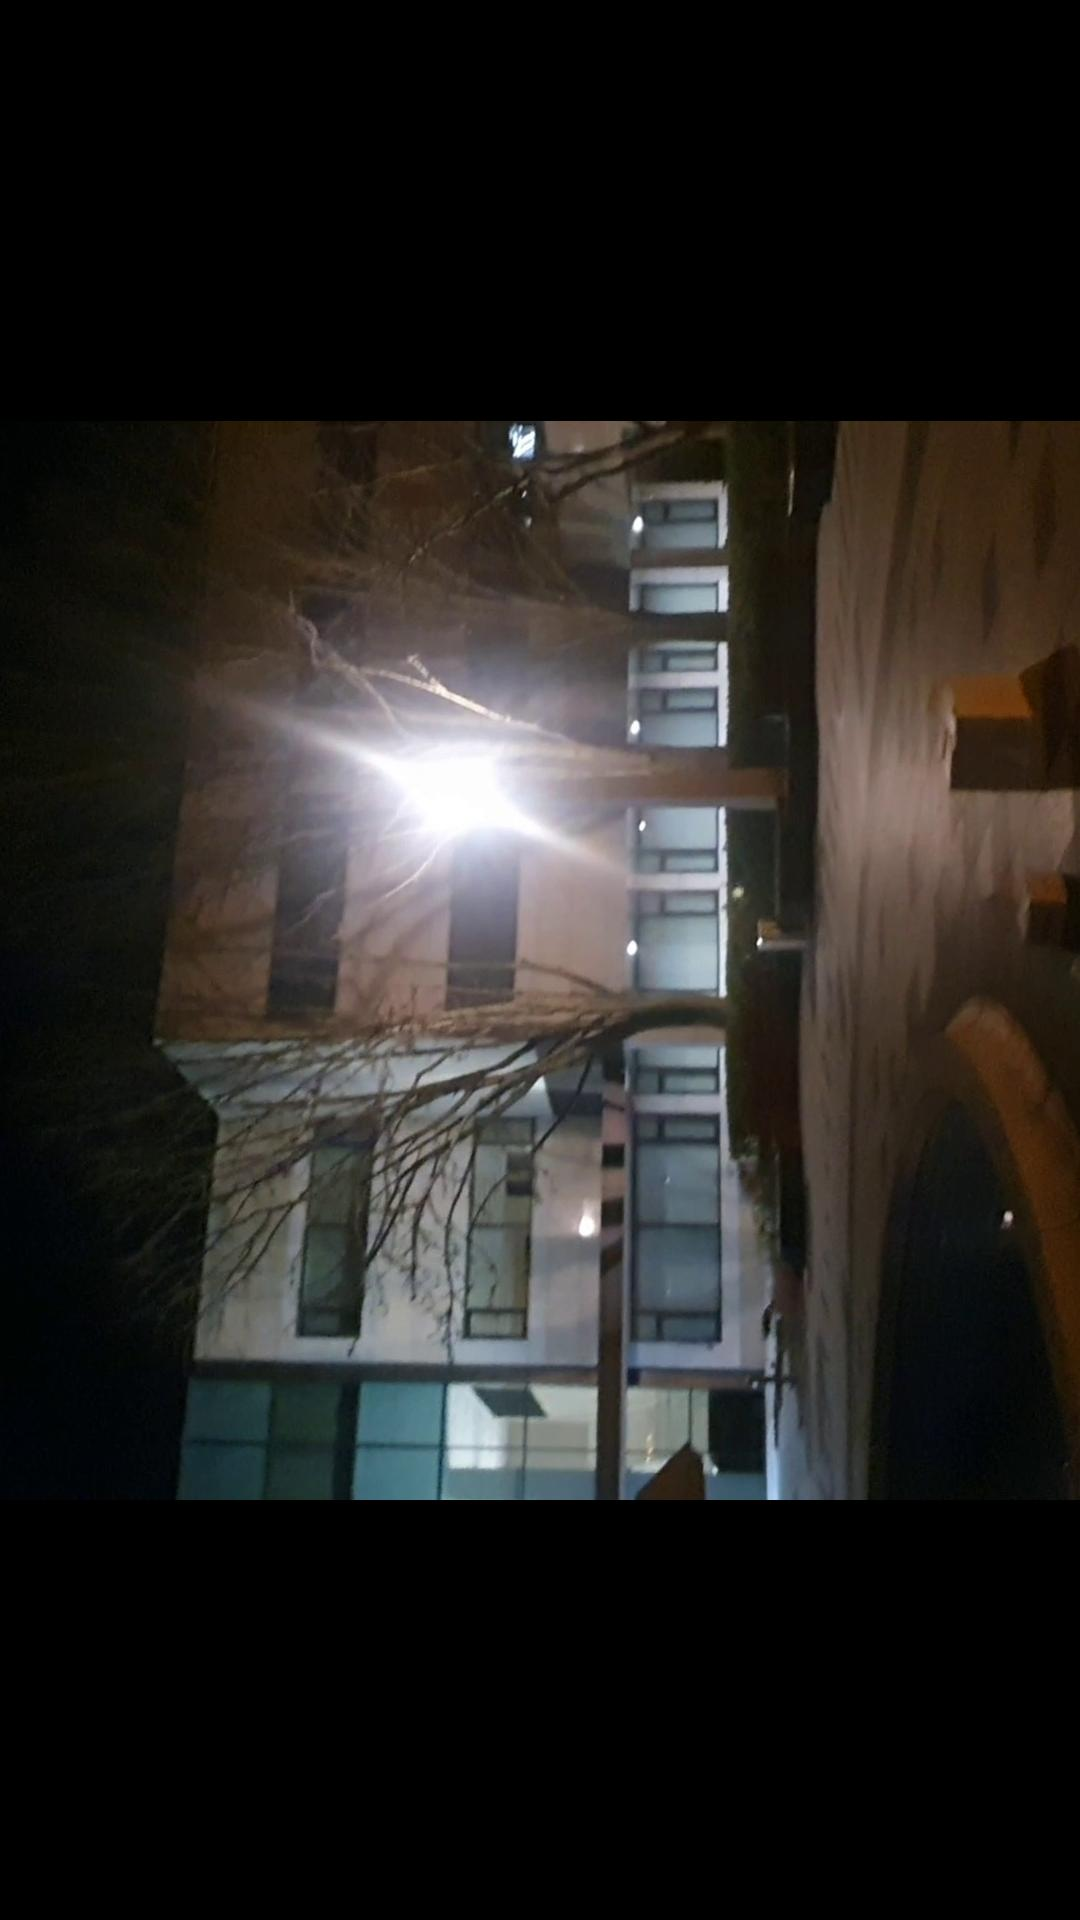Box: (935, 680, 1069, 808), (1000, 862, 1080, 964)
